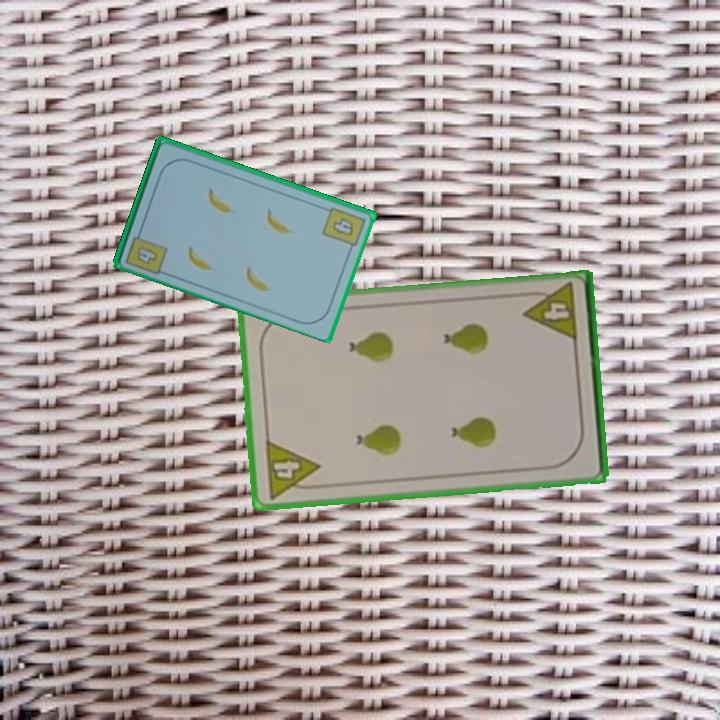4b: (319, 203, 368, 255), (122, 224, 170, 277)
4p: (261, 436, 324, 501), (520, 279, 580, 344)
